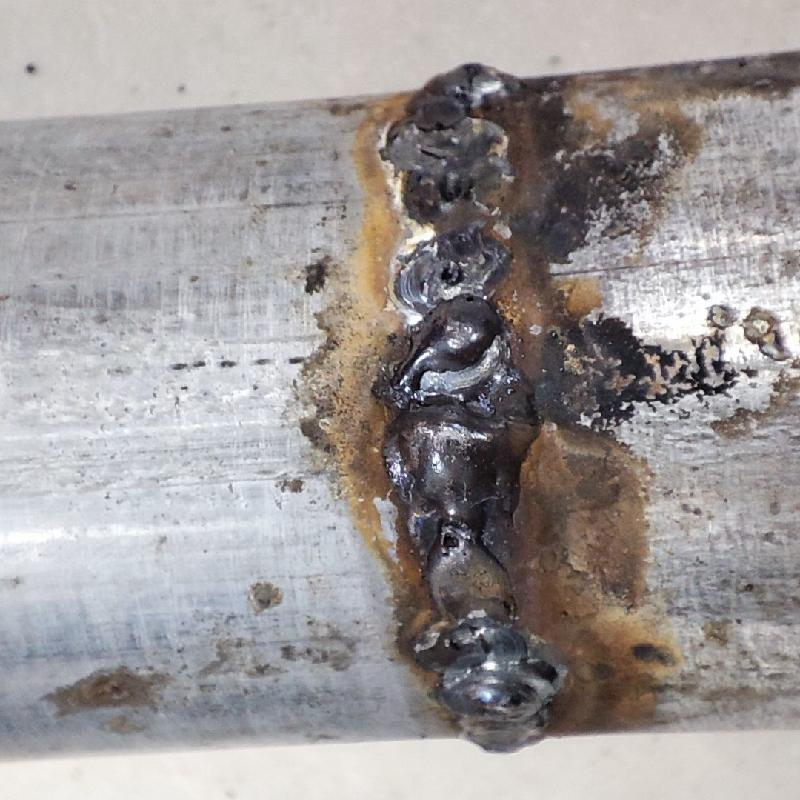Not_fully_soldered: (367, 109, 536, 296), (393, 530, 547, 664)
Surface_pores: (428, 666, 557, 753), (426, 520, 483, 560)
Weld: (367, 300, 534, 526)
